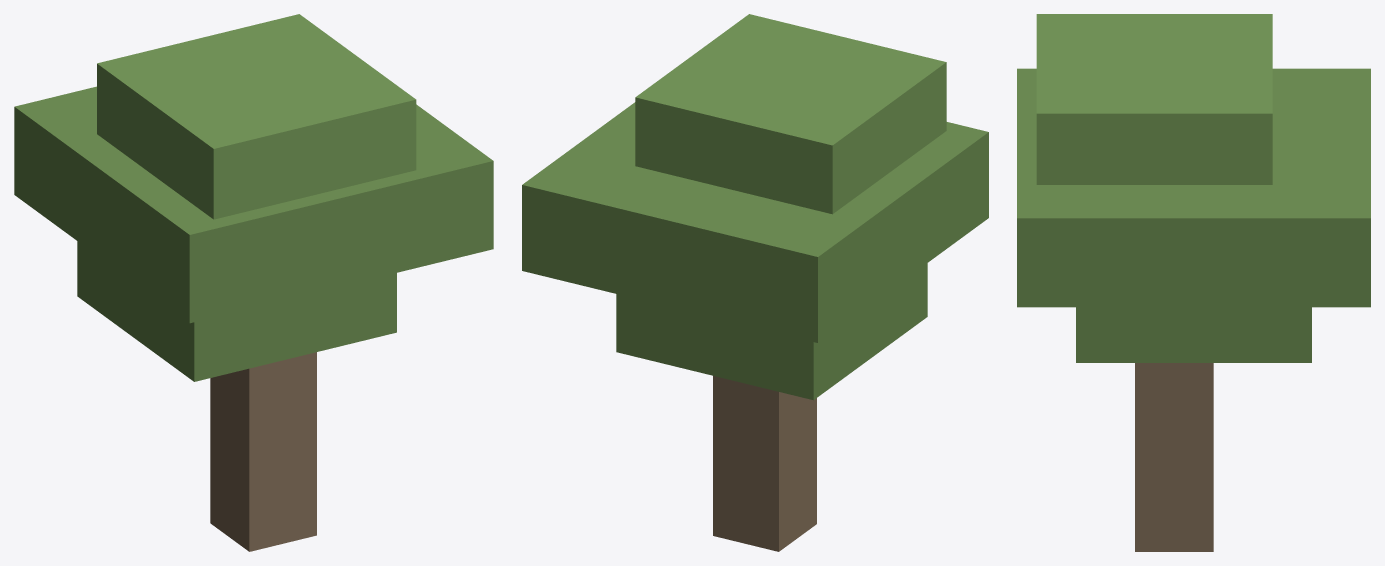
Rendered from roble_03.glb.
3 renders of one model, left to right at view 1: azimuth 30°, elevation 25°; view 2: azimuth 150°, elevation 25°; view 3: azimuth 270°, elevation 25°, orthographic. The views are drawn at different scales.
Visible parts, largest first — view 1: roble_03; view 2: roble_03; view 3: roble_03.
Part boxes in pixels (x1,y1,x2,y2): roble_03: (14,14,493,551); roble_03: (522,14,988,551); roble_03: (1017,14,1370,551).
Size of the model in its own units: 1.8 by 2.6 by 1.8.
